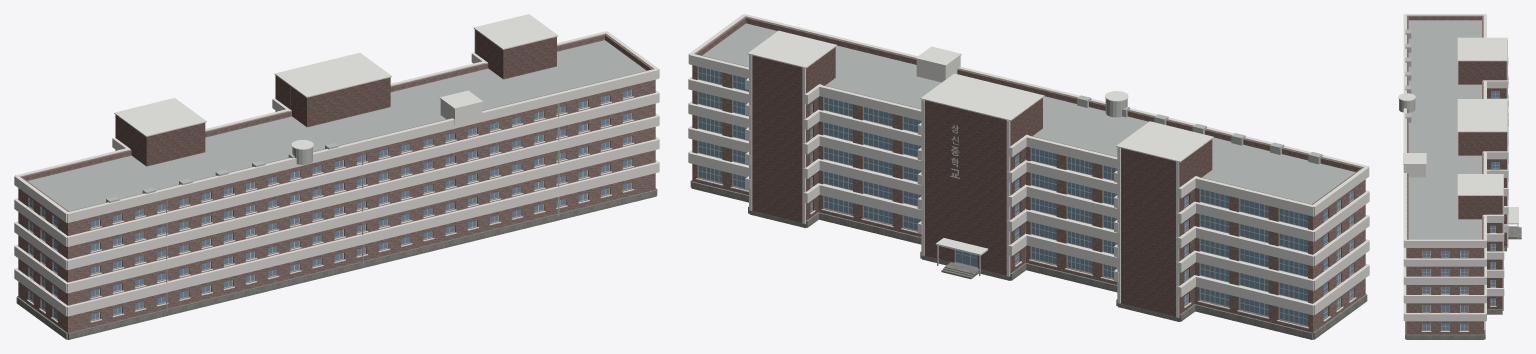
3 renders of one model, left to right at view 1: azimuth 30°, elevation 25°; view 2: azimuth 150°, elevation 25°; view 3: azimuth 270°, elevation 25°, orthographic. The views are drawn at different scales.
Parts seen in each view (by area): view 1: main__white, main__brick, main__roofpale, main__pier, main__glass, main__stone, main__frame, main__unit; view 2: main__white, main__pier, main__glass, main__brick, main__roofpale, main__frame, main__stone, main__unit; view 3: main__white, main__roofpale, main__brick, main__pier, main__glass, main__frame, main__stone, main__unit.
Part boxes in pixels (left/top/right/bottom): main__white: left=14, top=14, right=659, bottom=322; main__brick: left=18, top=34, right=655, bottom=332; main__roofpale: left=27, top=40, right=645, bottom=211; main__pier: left=116, top=30, right=556, bottom=166; main__glass: left=29, top=90, right=631, bottom=319; main__stone: left=16, top=188, right=657, bottom=339; main__frame: left=29, top=90, right=632, bottom=320; main__unit: left=106, top=103, right=559, bottom=312; main__white: left=688, top=14, right=1369, bottom=328; main__pier: left=752, top=47, right=1212, bottom=316; main__glass: left=698, top=67, right=1353, bottom=325; main__brick: left=692, top=17, right=1365, bottom=332; main__roofpale: left=702, top=23, right=1355, bottom=204; main__frame: left=698, top=66, right=1353, bottom=326; main__stone: left=690, top=180, right=1367, bottom=339; main__unit: left=937, top=95, right=1322, bottom=275; main__white: left=1398, top=14, right=1518, bottom=331; main__roofpale: left=1408, top=20, right=1481, bottom=239; main__brick: left=1406, top=16, right=1484, bottom=334; main__pier: left=1458, top=61, right=1506, bottom=309; main__glass: left=1422, top=91, right=1499, bottom=330; main__frame: left=1422, top=91, right=1499, bottom=330; main__stone: left=1405, top=246, right=1506, bottom=339; main__unit: left=1399, top=29, right=1518, bottom=238.
Bounding box in the file's own units: 91 × 22.4 × 20.87.
Materials: 8 (4 with a texture image).
